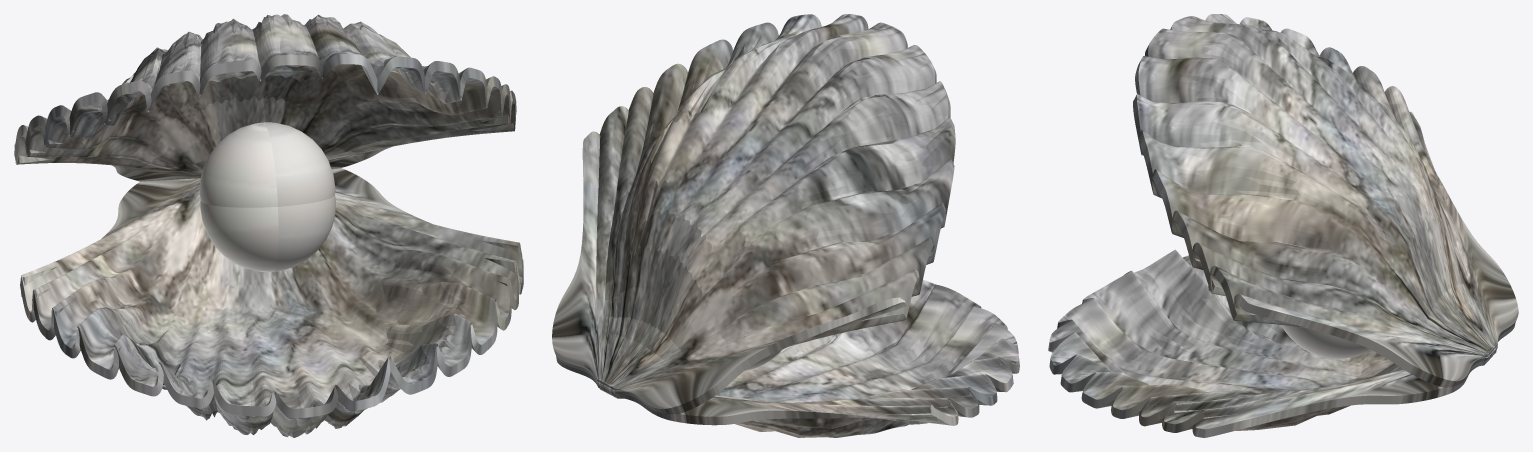
File: ostra.fbx
3 renders of one model, left to right at view 1: azimuth 30°, elevation 25°; view 2: azimuth 150°, elevation 25°; view 3: azimuth 270°, elevation 25°, orthographic. The views are drawn at different scales.
Visible parts, largest first — view 1: Plane.001; view 2: Plane.001; view 3: Plane.001.
Boxes of the visible parts, bbox=[...] form: Plane.001: bbox=[14, 14, 523, 437]; Plane.001: bbox=[552, 14, 1019, 437]; Plane.001: bbox=[1048, 14, 1518, 437].
Bounding box in the file's own units: 16.4 × 13.44 × 15.92.
2 materials, 2 textured.
